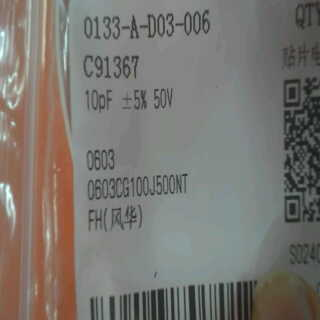10pF: (83, 85, 119, 115)
